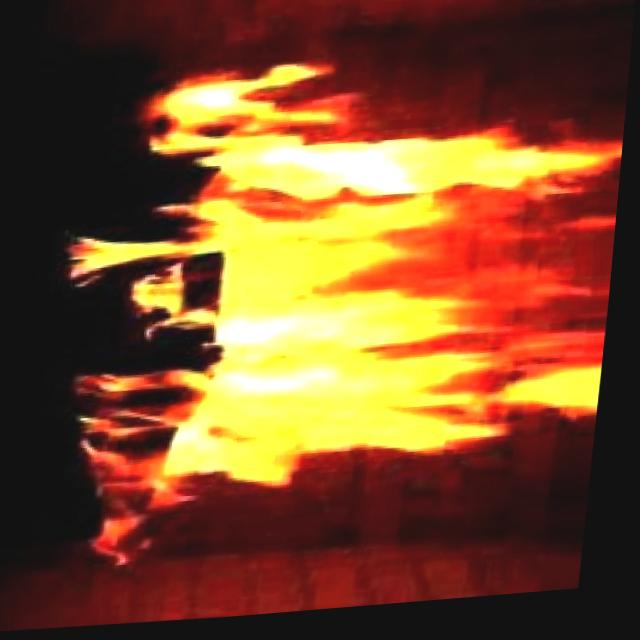Smoke: (29, 32, 635, 590)
